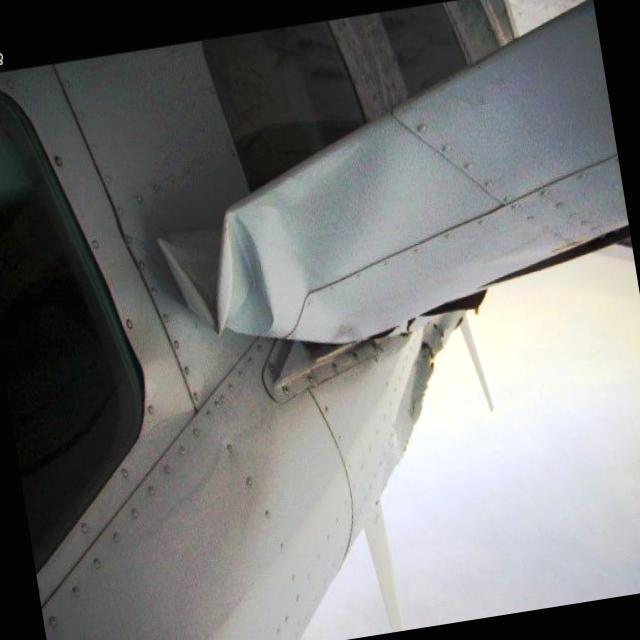dent: (147, 197, 276, 356)
